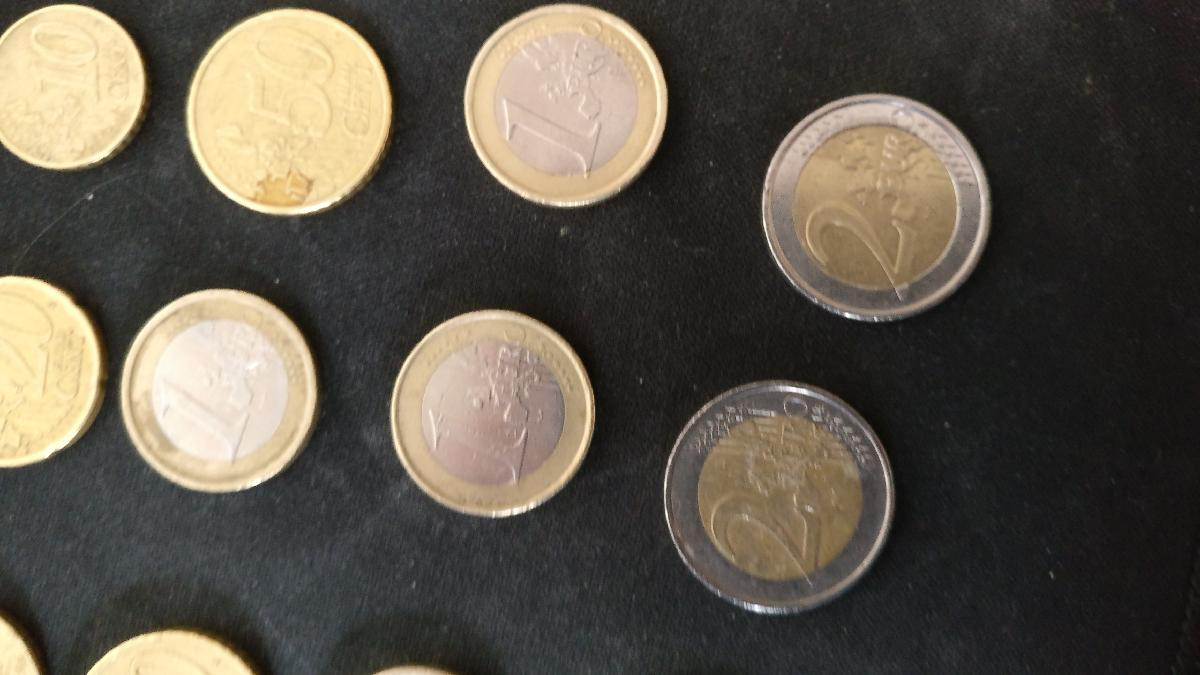Fifty Cent: (180, 9, 393, 218)
One Euro: (456, 3, 670, 209), (391, 311, 599, 516), (123, 291, 319, 497)
Ten Cent: (1, 1, 153, 174)
Twenty Cent: (1, 274, 109, 475)
Two Euro: (662, 380, 899, 613), (763, 92, 994, 322)
